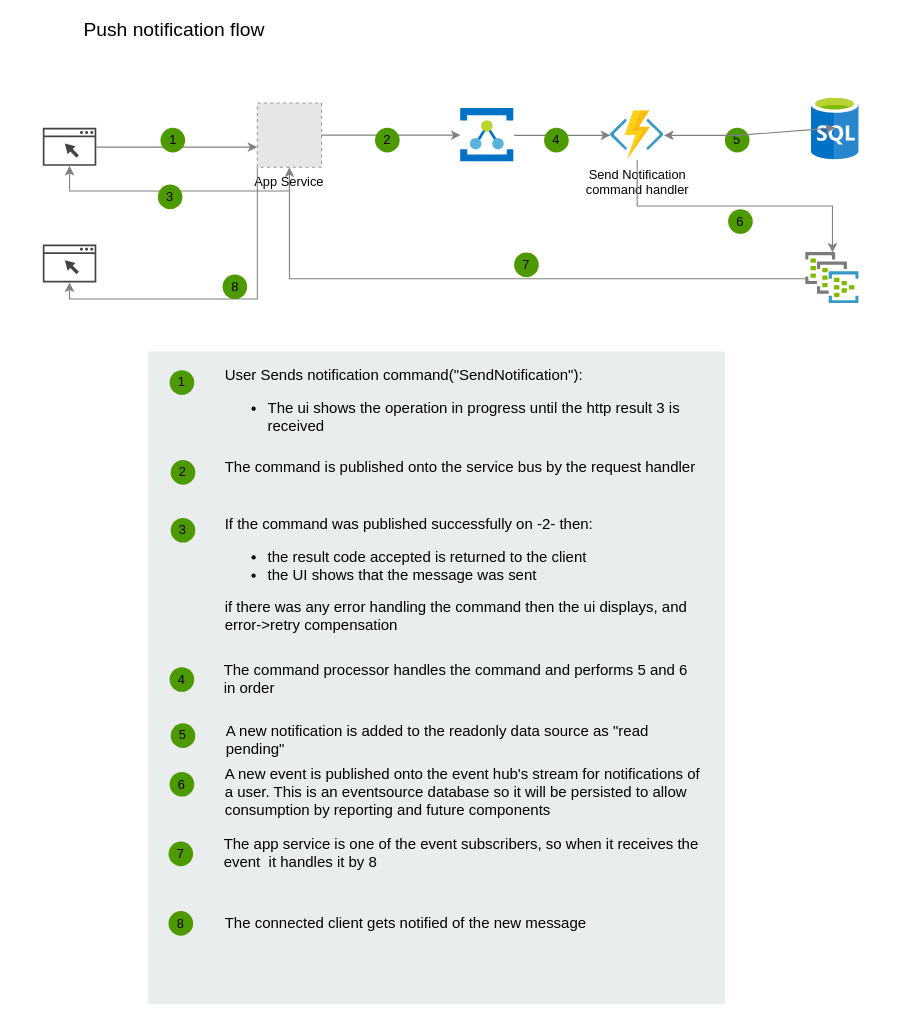
The diagram is 901 pixels wide and 1031 high, and some of its shapes have lost their labels. Grey dashed boxes stand in for pictures. Each missing label, with the centre of its shape:
"Event hub stream" belongs at (832,277).
"Service bus" belongs at (487,135).
"Structured" belongs at (835,127).
"User Receiving with page opened" belongs at (69,263).
"User sending" belongs at (69,146).
